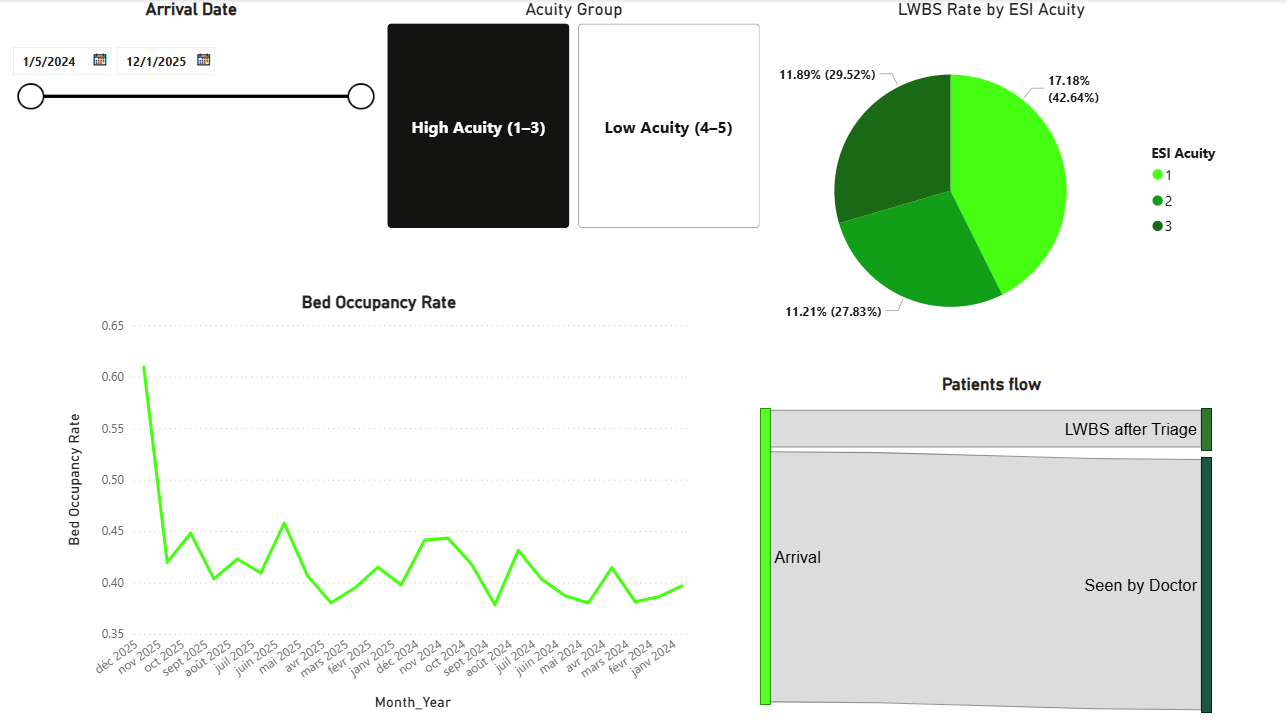

Layout of this report page (visuals, bound fields, positions):
{"tool":"powerbi","page":{"name":"Page 1","canvas":[1280,720],"ordinal":1},"visuals":[{"type":"pieChart","title":"LWBS Rate by ESI Acuity","fields":{"Y":["CN_CLEAN_DATA.LWBS Rate"],"Series":["CN_CLEAN_DATA.ESI_Acuity"]},"box":[728.8,0,482.5,356.2],"z":0},{"type":"sankey02300D1BE6F5427989F3DE31CCA9E0F32020","title":"Patients flow","fields":{"Source":["CN_CLEAN_DATA.Sankey_Source"],"Destination":["CN_CLEAN_DATA.Sankey_Target"],"Weight":["CountNonNull(CN_CLEAN_DATA.Sankey_Triage_Stage)"]},"box":[728.8,366.2,482.5,353.8],"z":1000},{"type":"advancedSlicerVisual","title":"Acuity Group","fields":{"Values":["CN_CLEAN_DATA.Acuity_Group"]},"box":[374.5,0,374.5,230.1],"z":2000},{"type":"slicer","title":"Arrival Date","fields":{"Values":["Dim_Date_Clean.Date"]},"box":[0,0,374.5,286.3],"z":3000},{"type":"lineChart","title":"Bed Occupancy Rate ","fields":{"Y":["CN_CLEAN_DATA.Bed Occupancy Rate (%)"],"Category":["Dim_Date_Clean.Month_Year"]},"box":[60,286.7,621.7,415],"z":4000}]}

Visuals, with their boxes in screenshot pixels (x1, y1, x2, y2), scaled from the page's 1280x720 canvas onto the 1287x726 screenshot:
"LWBS Rate by ESI Acuity" pieChart: select_region(733, 0, 1218, 359)
"Patients flow" sankey02300D1BE6F5427989F3DE31CCA9E0F32020: select_region(733, 369, 1218, 725)
"Acuity Group" advancedSlicerVisual: select_region(377, 0, 753, 232)
"Arrival Date" slicer: select_region(0, 0, 377, 289)
"Bed Occupancy Rate " lineChart: select_region(60, 289, 685, 708)
